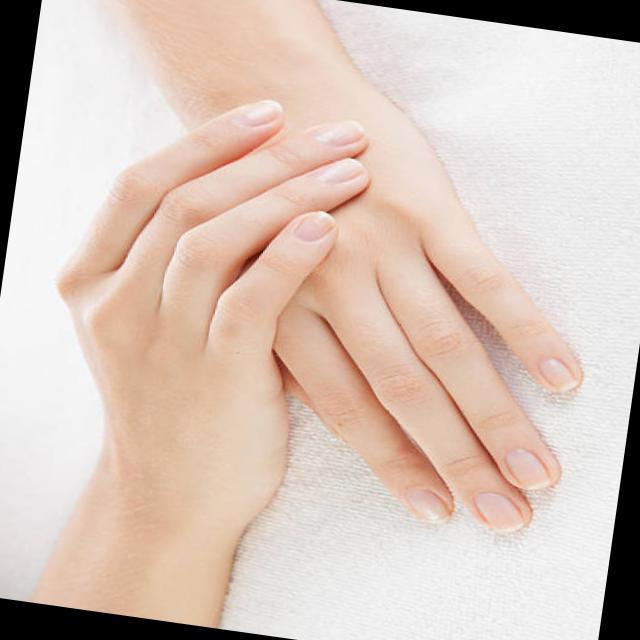Nail: (473, 491, 525, 530), (505, 447, 550, 489), (404, 487, 450, 521), (231, 99, 282, 126), (312, 120, 364, 146), (539, 356, 577, 390), (315, 157, 363, 183), (295, 211, 334, 241)
